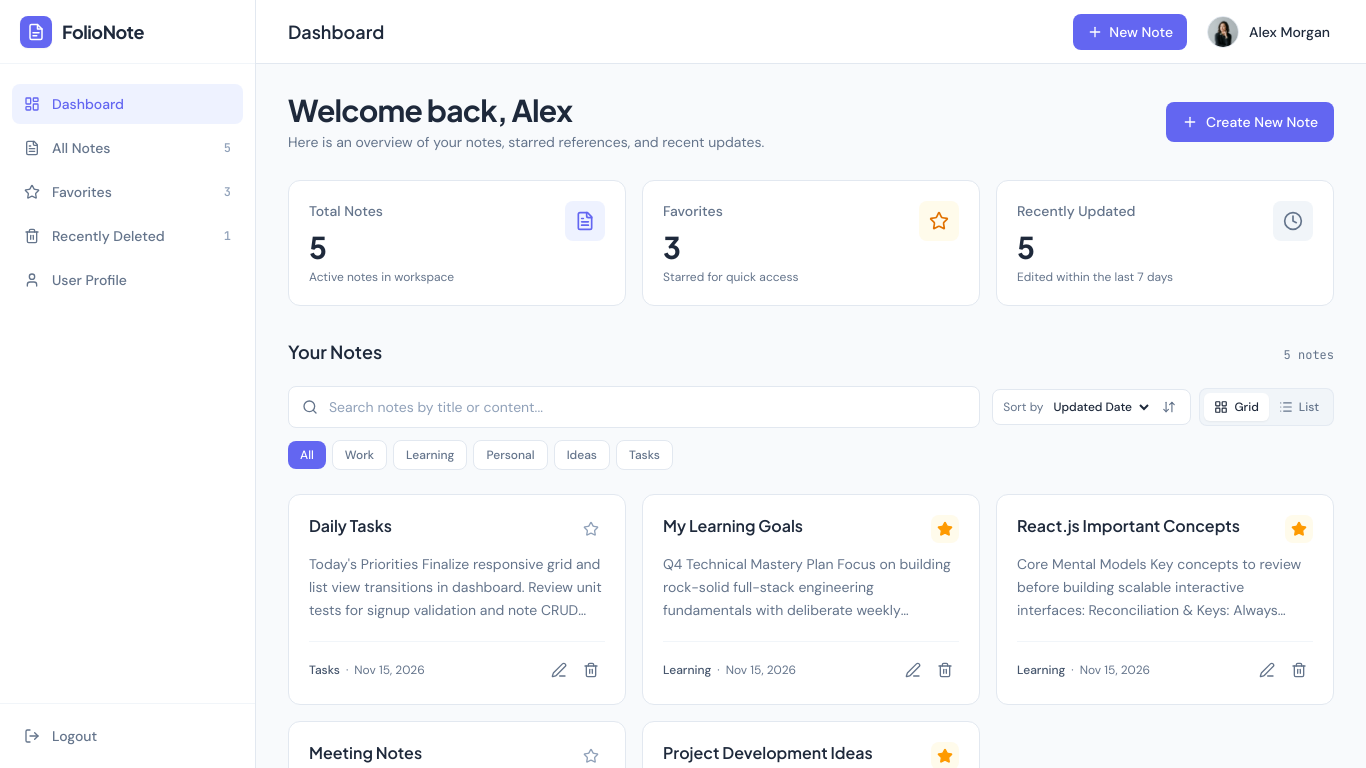
Notes Components & Dashboard › filters Dashboard notes by search query and category
Expected: the heading "My Learning Goals" is shown, [663,515,803,537]
Expected: the heading "Meeting Notes" is shown, [309,742,422,764]
In the search field labelled "Search notes": (634, 407) [288,386,980,428], type "Learning Goals"
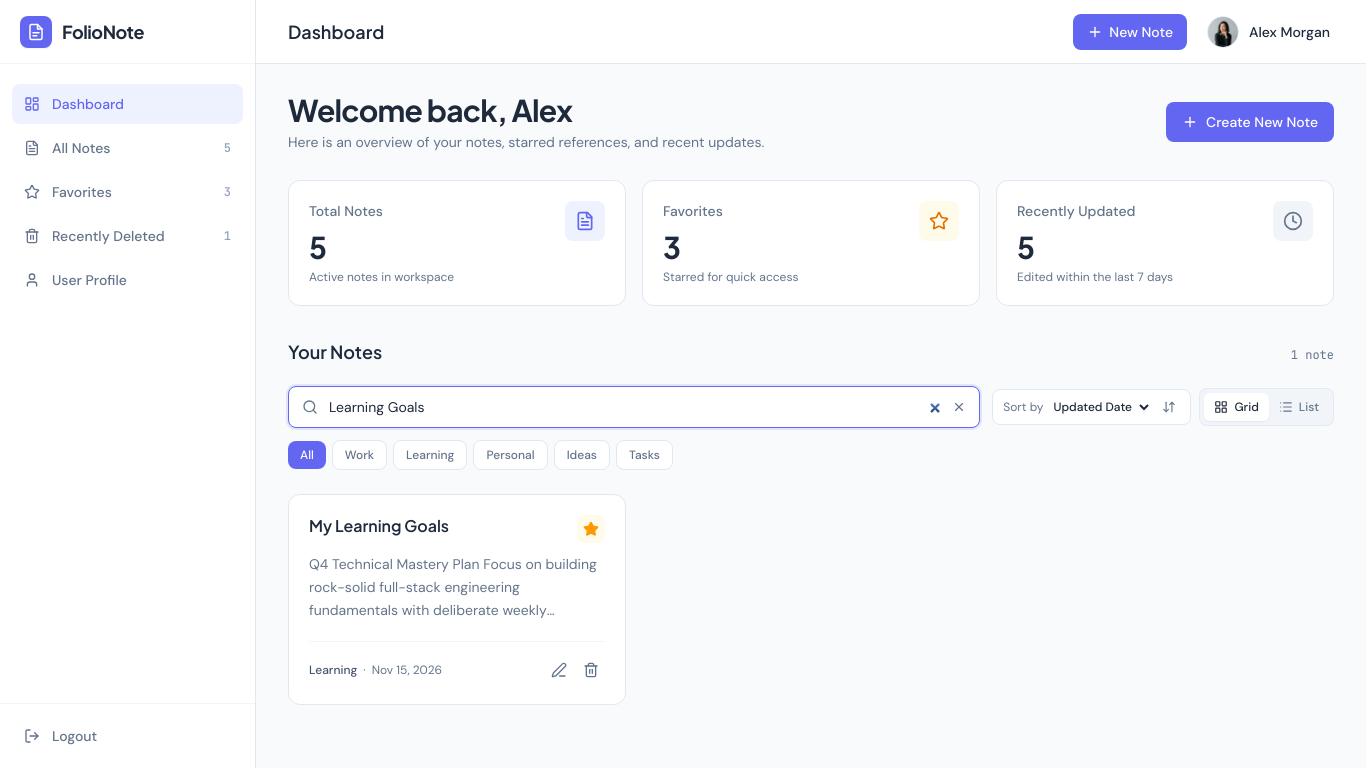
Expected: the heading "My Learning Goals" is shown, [309,515,449,537]
Expected: the heading "Meeting Notes" is gone
Clear the search field named "Search notes": (634, 407) [288,386,980,428]
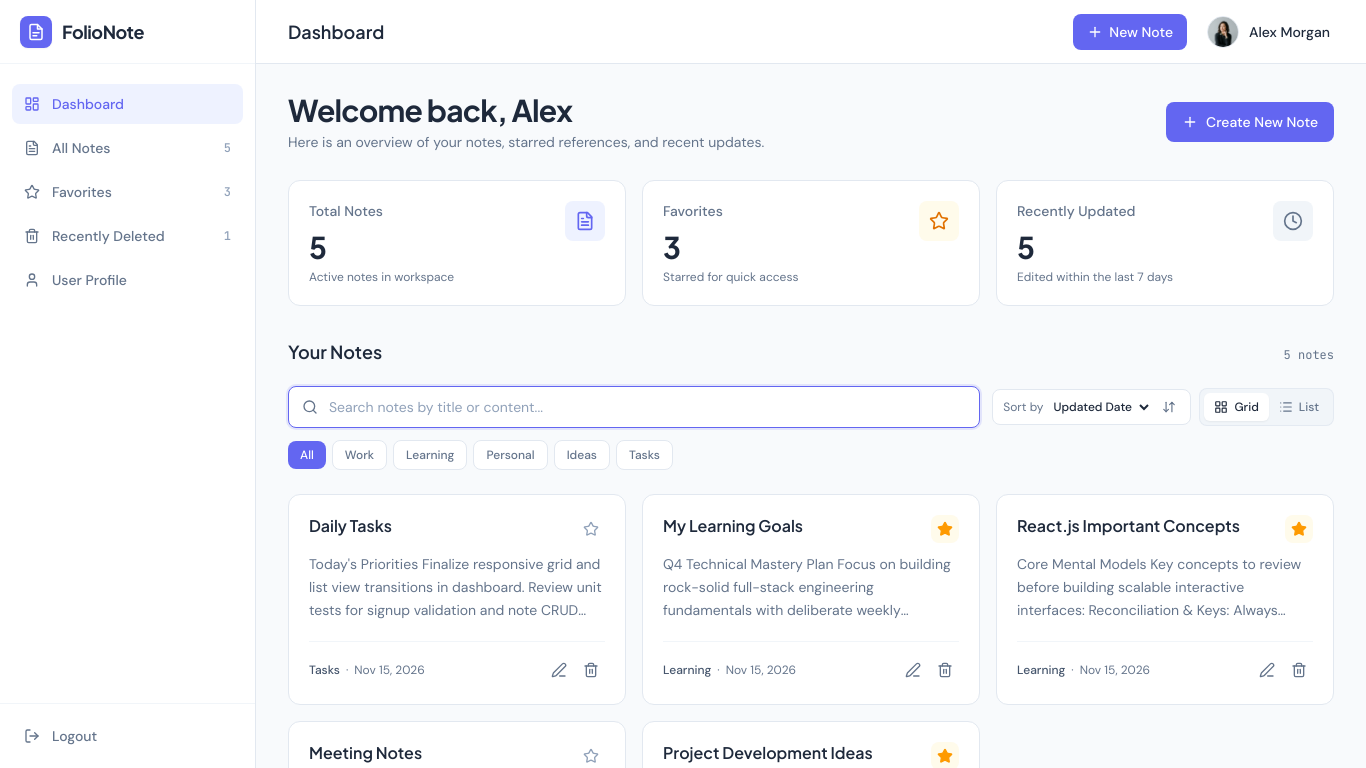
Click the tab "Work": click(359, 455) [332,440,387,470]
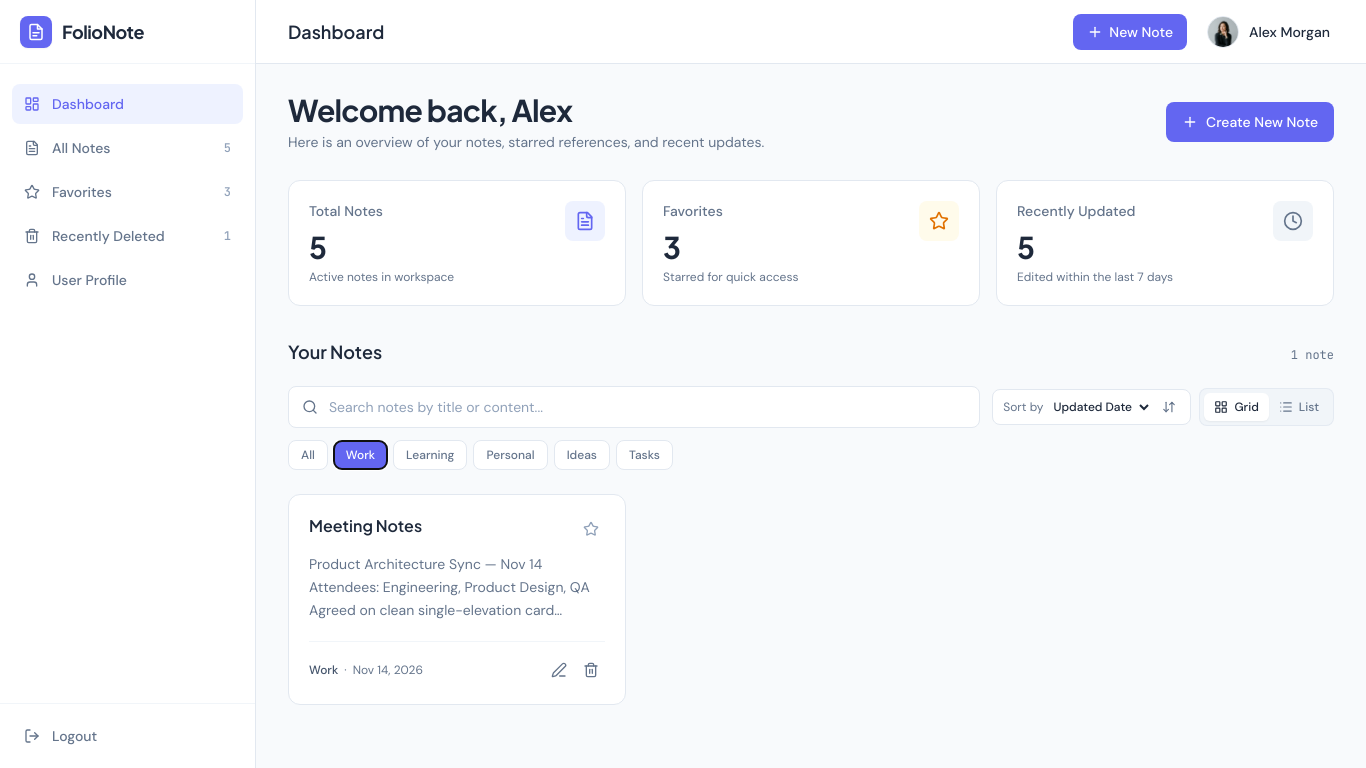
Expected: the heading "Meeting Notes" is shown, [309,515,422,537]
Expected: the heading "My Learning Goals" is gone
